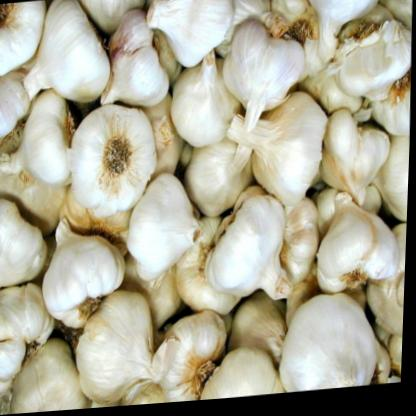--: (200, 166, 314, 324), (61, 88, 171, 230), (271, 269, 385, 398), (67, 284, 182, 411), (218, 12, 313, 142)
